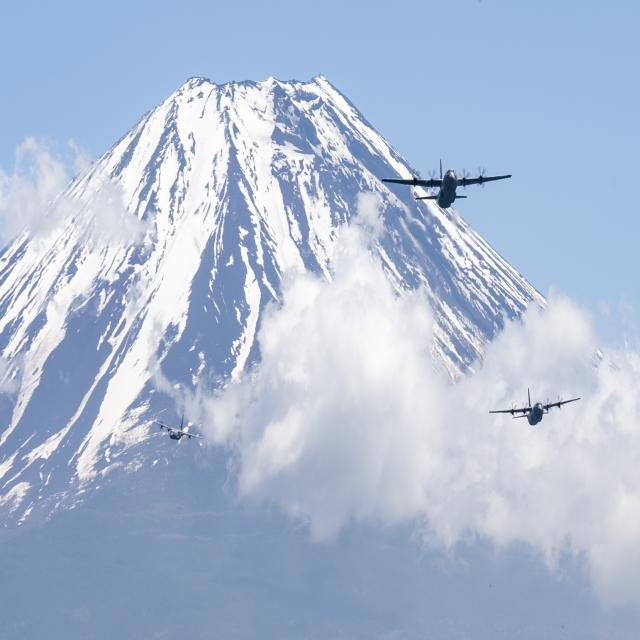MIL_Plane: (62, 155, 192, 205), (150, 62, 204, 89), (489, 83, 581, 90)
